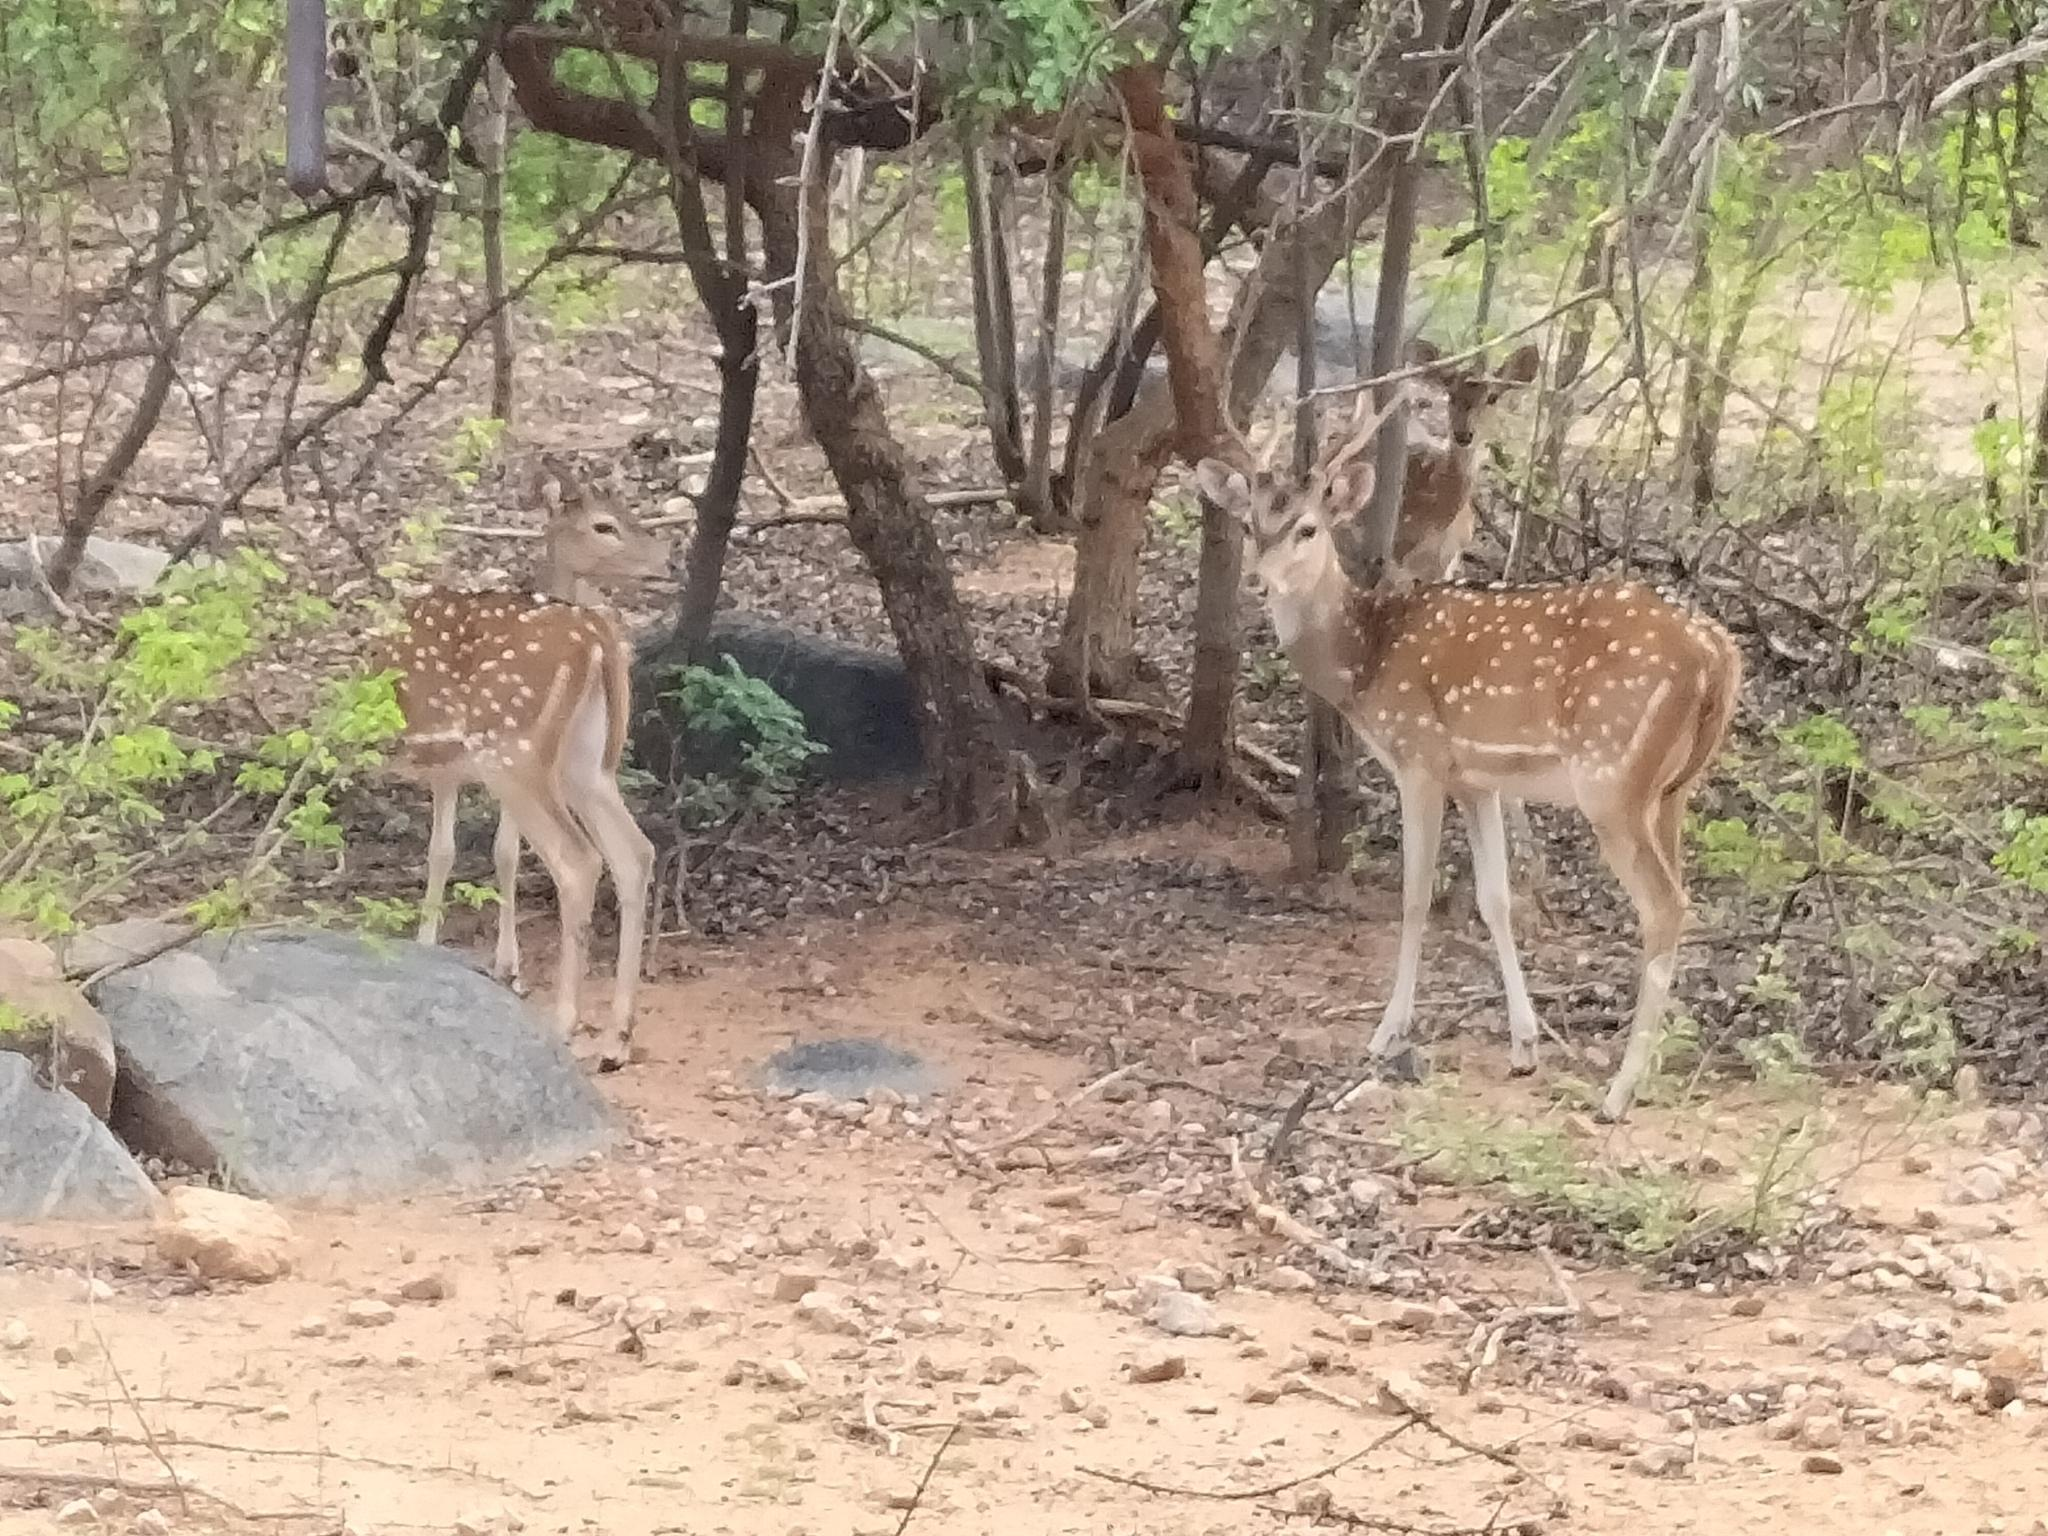Deer: (1197, 394, 1742, 1120), (377, 461, 664, 1065), (1393, 339, 1538, 581)
